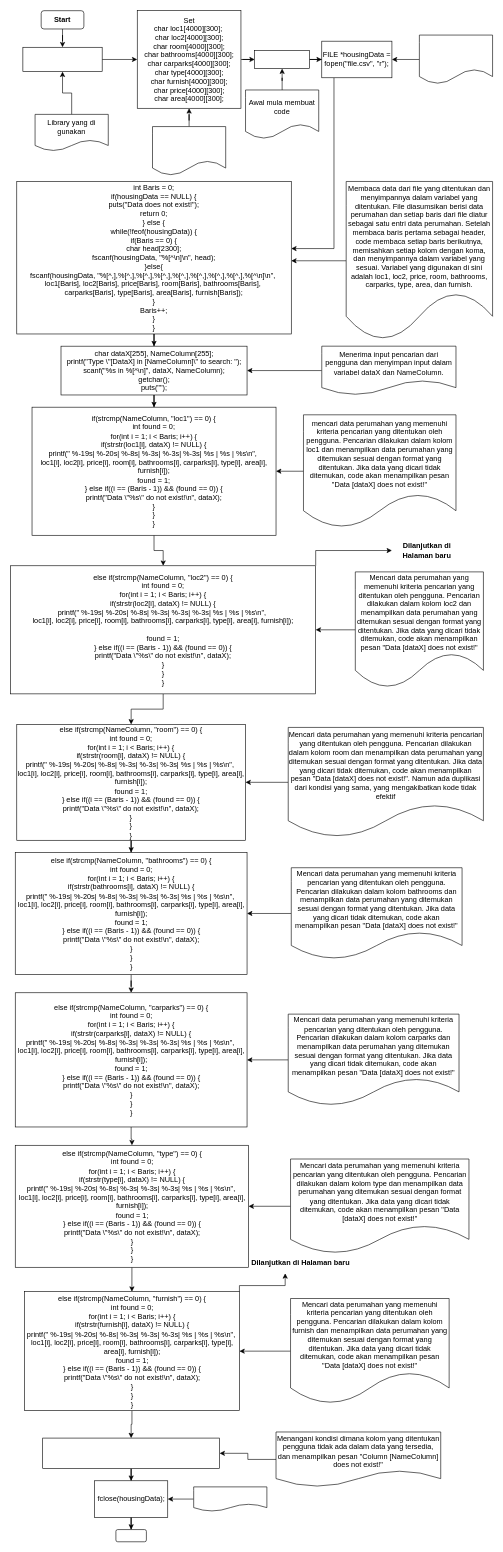
Some shapes in this 503 by 1552 pixel diagram are drawn without their labels. Here are the shapes that lost their labels. From the top down, the centre of each, then its label:
point (62, 59): #include <stdio.h> #include <string.h>
point (282, 59): int main() {
point (456, 59): Untuk buat filenya/ tempat menyimpan data
point (189, 150): Tipe variabel yang digunakan
point (131, 1453): else { printf("Column \"%s\" do not exist!\n", NameColumn); }
point (230, 1498): Untuk menutup File
point (130, 1535): End
